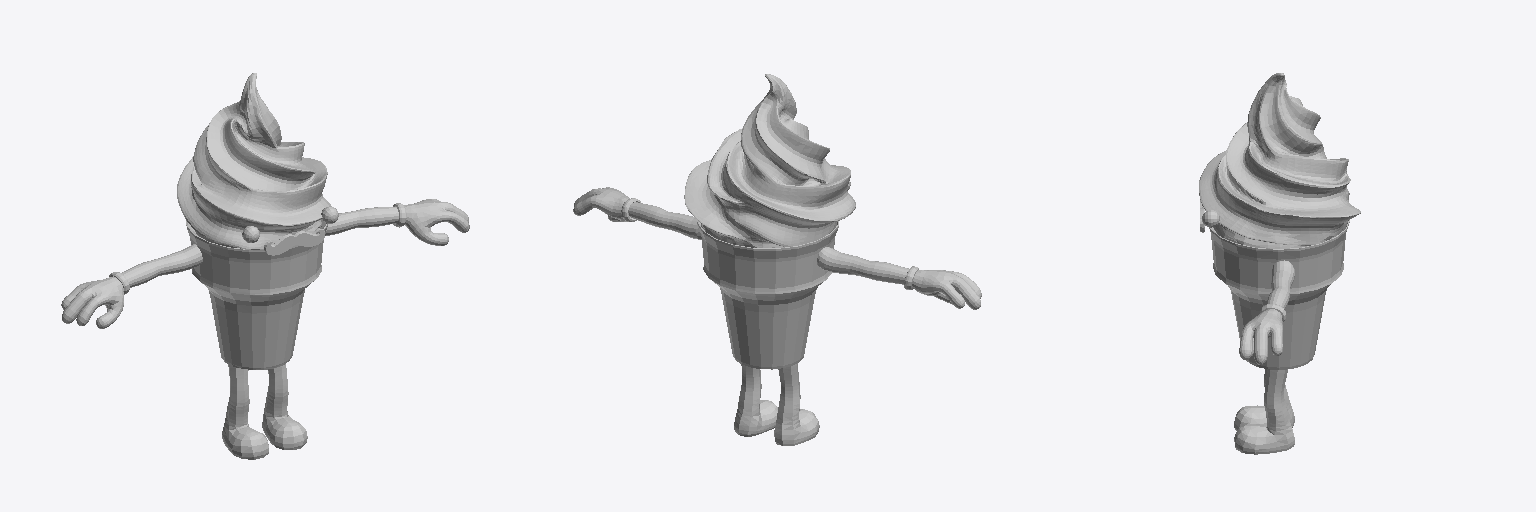
Rendered from icecreamman_anim_a.obj.
3 views of the same model, side by side, from view 1: azimuth 30°, elevation 25°; view 2: azimuth 150°, elevation 25°; view 3: azimuth 270°, elevation 25° (orthographic).
Parts seen in each view (by area): view 1: icecreamman; view 2: icecreamman; view 3: icecreamman.
Boxes of the visible parts, box(x1,y1,x2,y2) form: icecreamman: box(61, 73, 469, 459); icecreamman: box(573, 74, 981, 445); icecreamman: box(1199, 73, 1360, 454).
Size of the model in its own units: 2.34 by 2.01 by 0.8092.